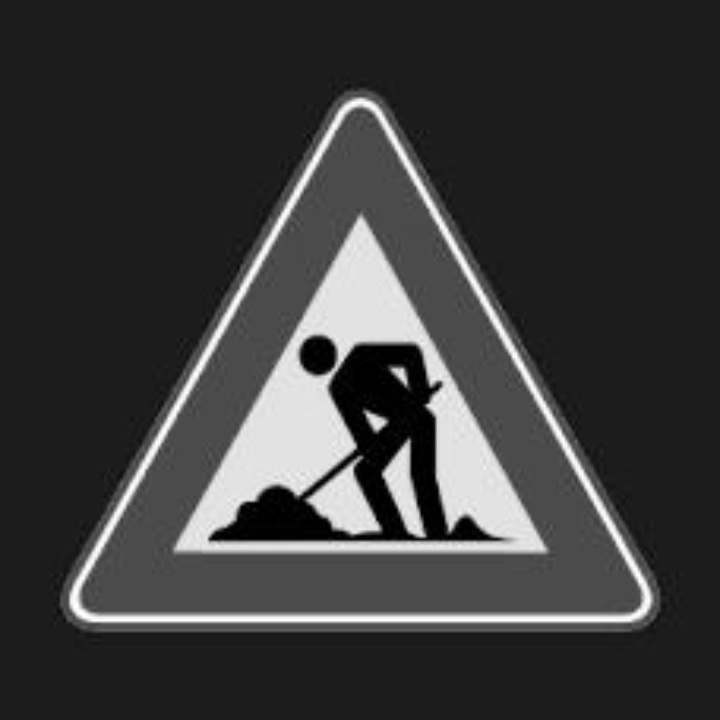const: (214, 300, 601, 584)
